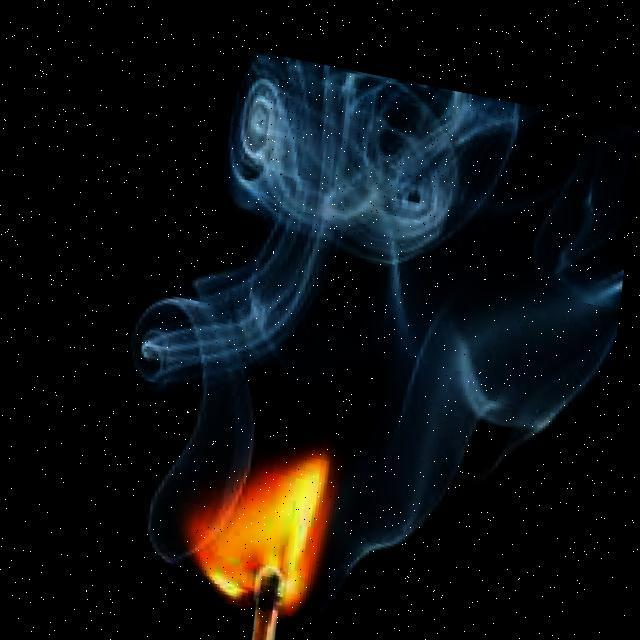Fire: (163, 389, 384, 609)
